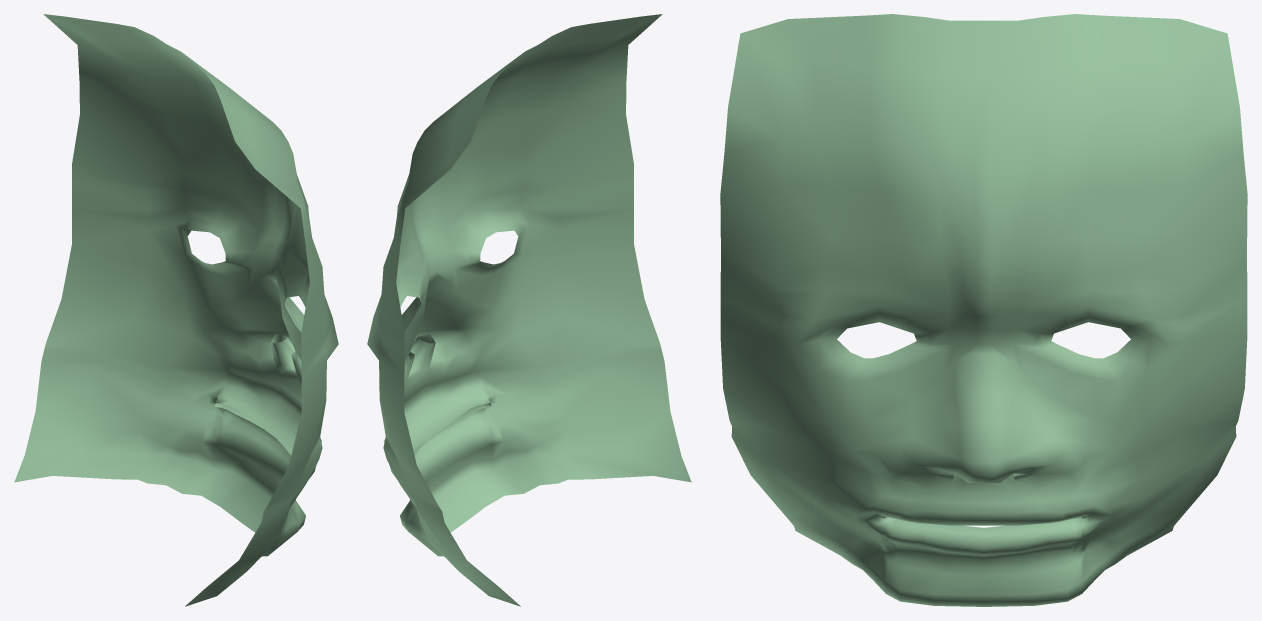
Rendered from HumanoidMorphFaceLaraGAM20.FBX.
The picture shows the model from 3 angles, left to right: view 1: azimuth 30°, elevation 25°; view 2: azimuth 150°, elevation 25°; view 3: azimuth 270°, elevation 25°; orthographic projection. The views are drawn at different scales.
Visible parts, largest first — view 1: Face; view 2: Face; view 3: Face.
Boxes of the visible parts, x1,y1,x2,y2 form: Face: (14, 14, 338, 606); Face: (367, 14, 691, 606); Face: (720, 14, 1247, 606).
Bounding box in the file's own units: 4.28 × 8.93 × 7.69.
